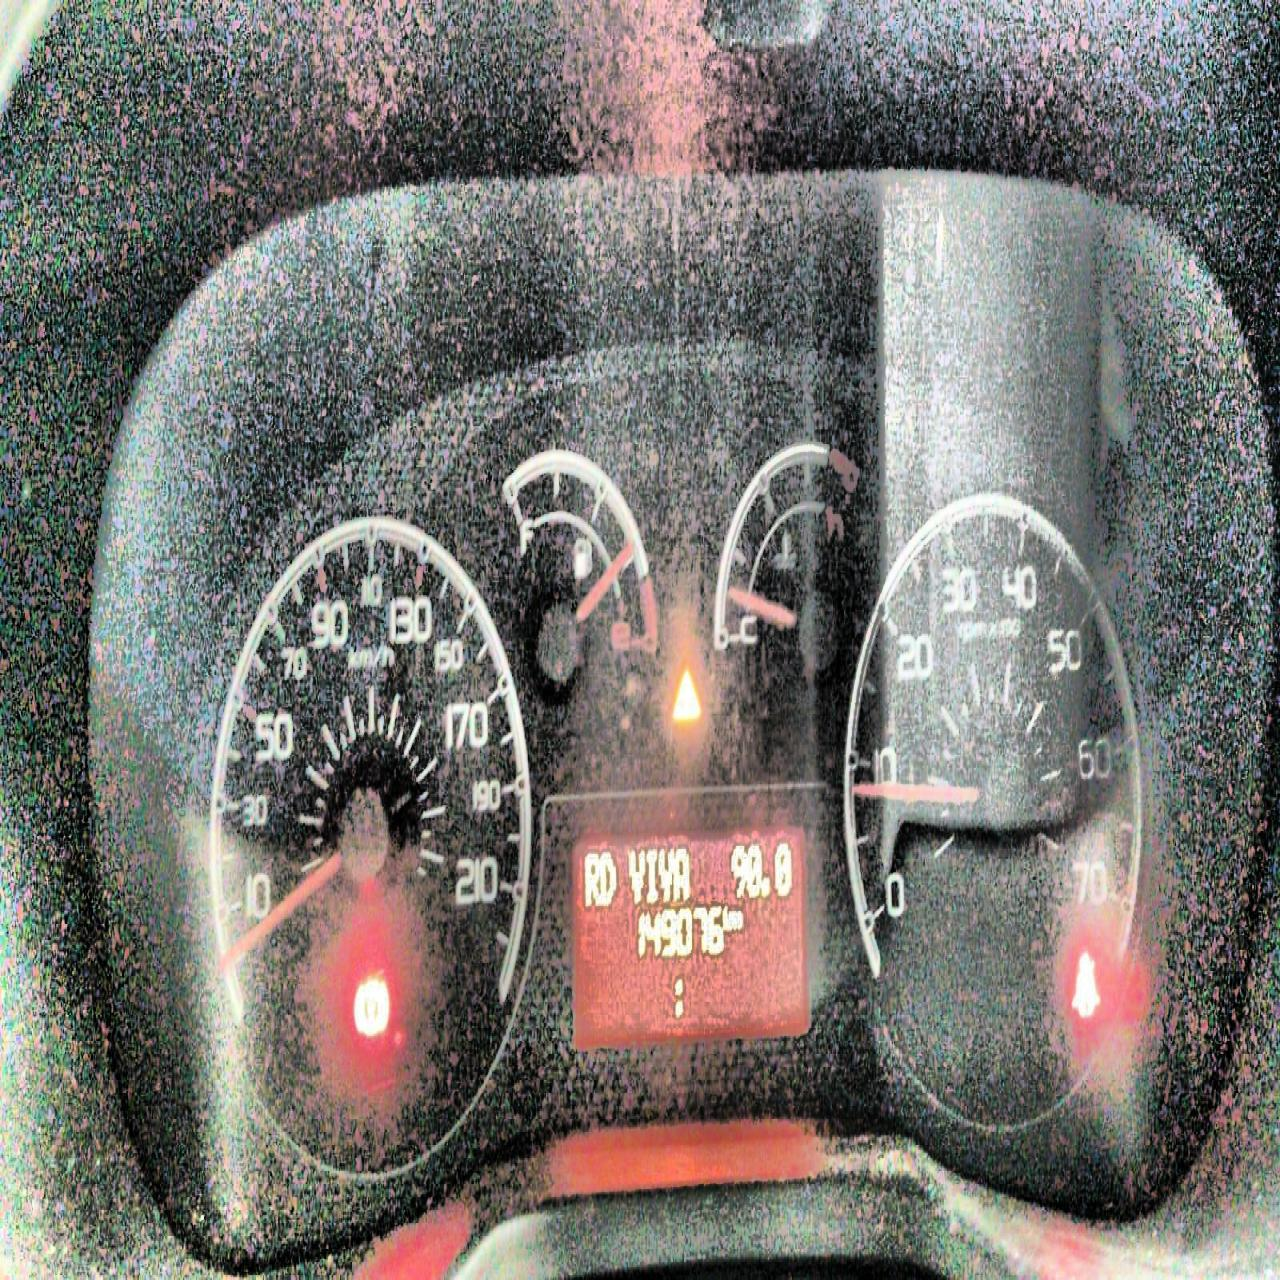-: (761, 874, 769, 896)
0: (772, 840, 790, 894), (676, 904, 692, 955), (747, 843, 761, 898)
1: (636, 911, 645, 956)
4: (646, 910, 660, 955)
6: (707, 904, 723, 953)
7: (693, 904, 708, 955)
9: (730, 843, 747, 897), (661, 907, 675, 956)
X: (627, 847, 646, 905), (583, 851, 601, 906), (599, 849, 617, 904), (658, 846, 674, 901), (674, 846, 690, 901), (645, 847, 658, 903), (674, 975, 683, 1019), (730, 907, 742, 931), (723, 903, 730, 931)
odometer: (570, 822, 809, 1050)
